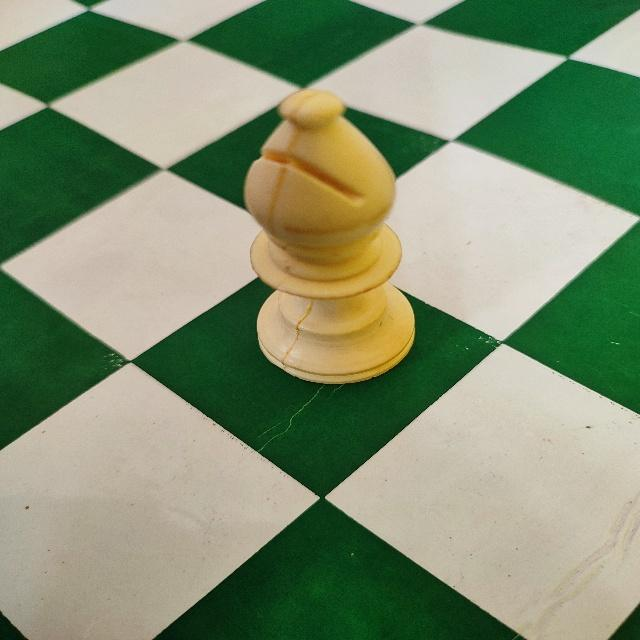Bishop: (241, 85, 418, 388)
